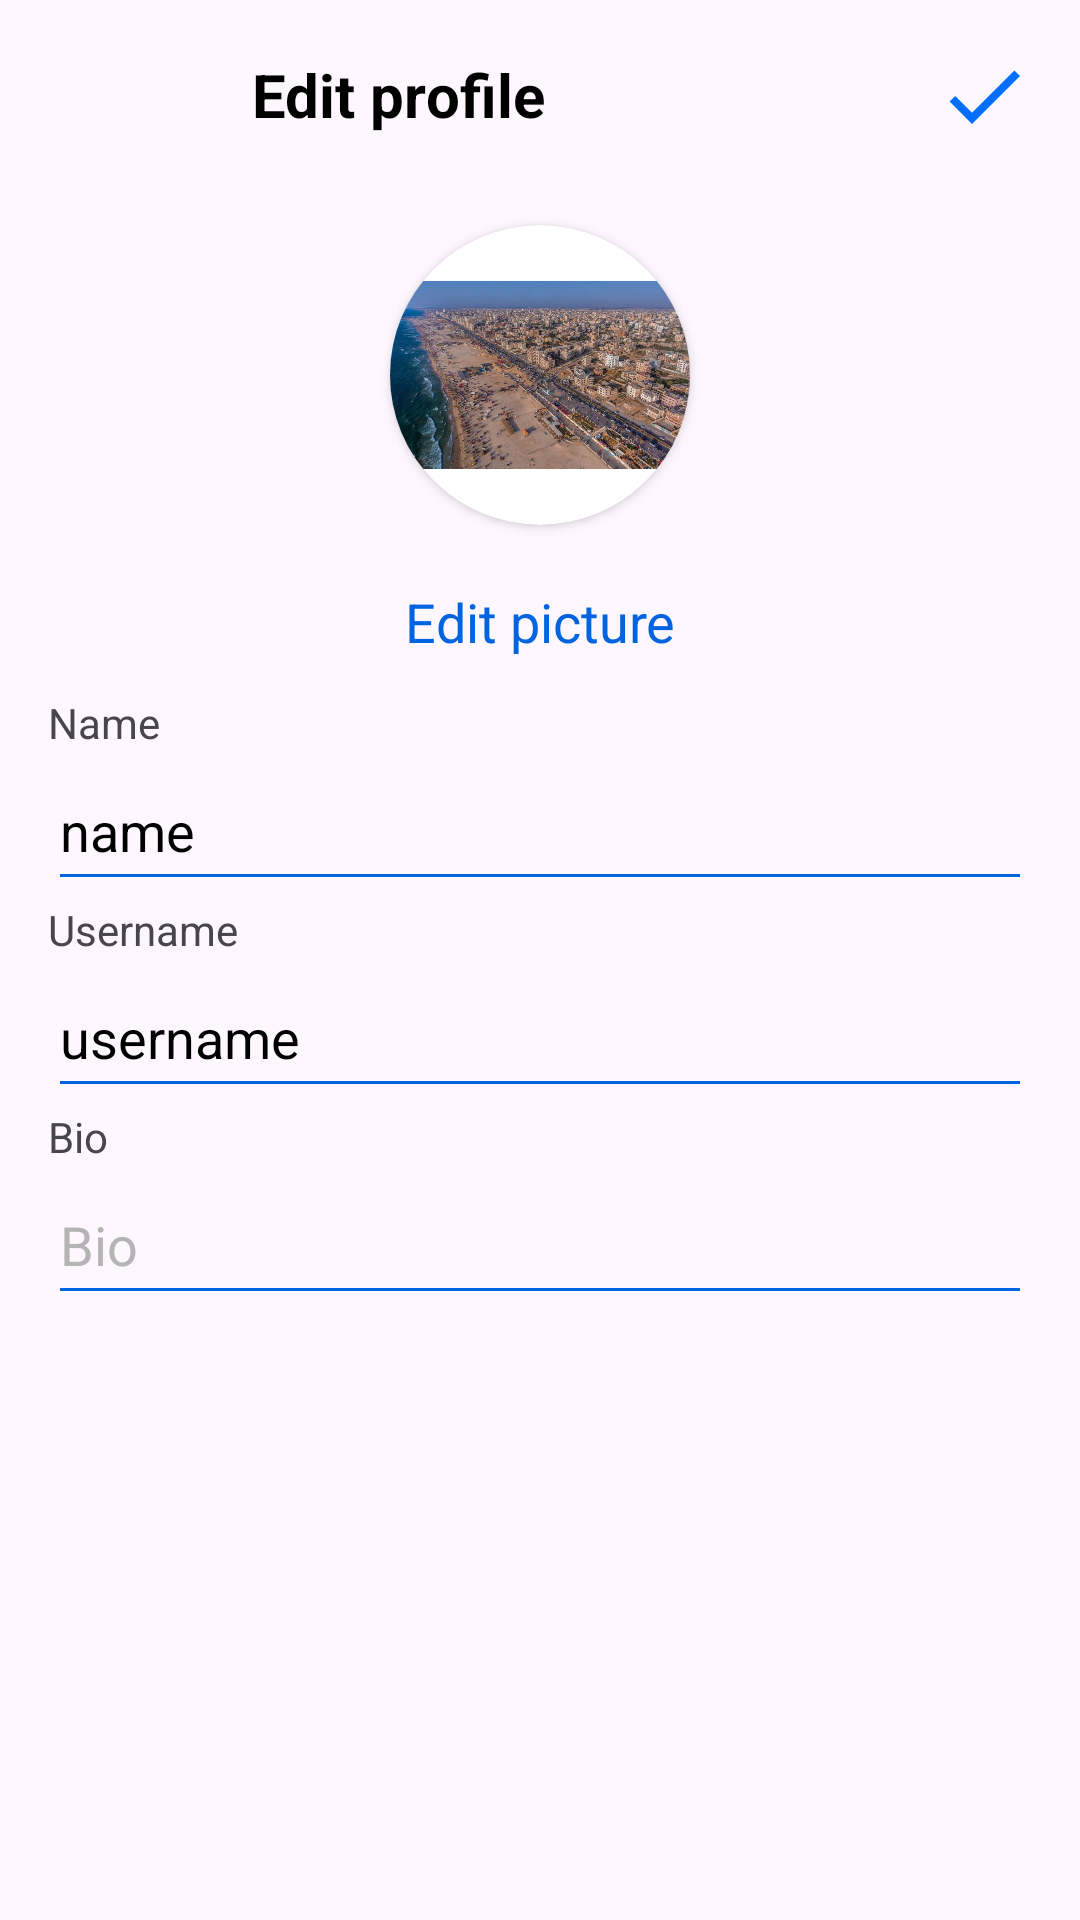

Point at icon controls on the screen. Image size 1080px x 1920px, points as (x,y).
done: (984,97)
